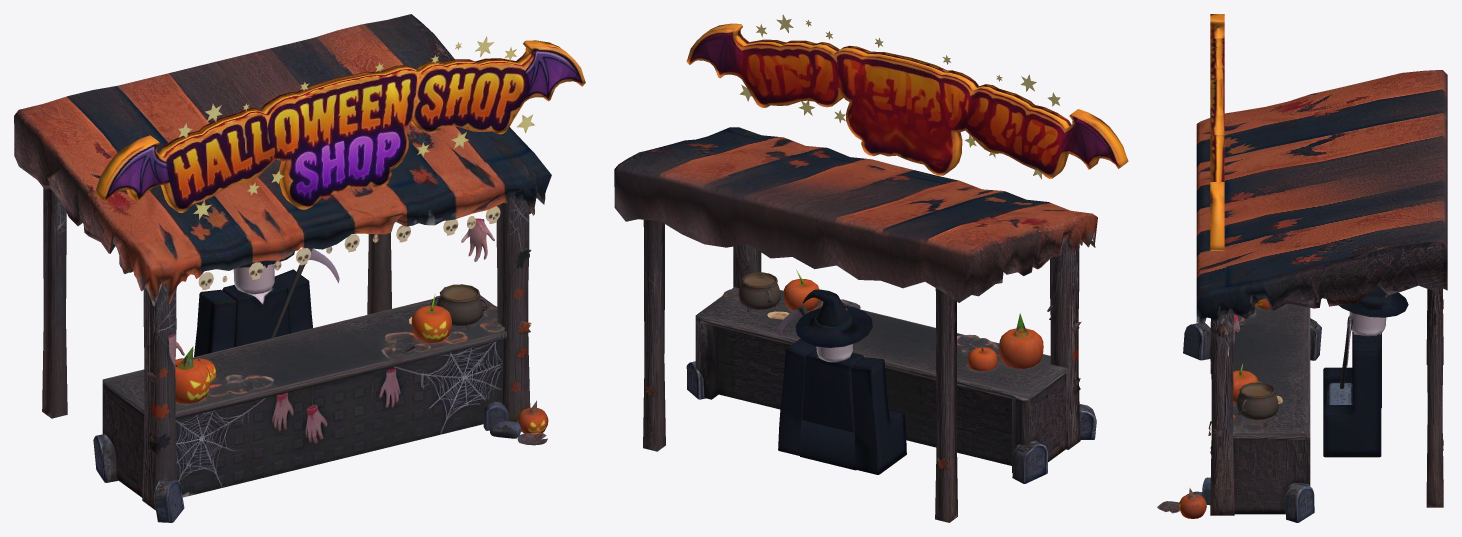
Rendered from halloween-shop.glb.
3 renders of one model, left to right at view 1: azimuth 30°, elevation 25°; view 2: azimuth 150°, elevation 25°; view 3: azimuth 270°, elevation 25°, orthographic. The views are drawn at different scales.
Visible parts, largest first — view 1: HalloweenShop; view 2: HalloweenShop; view 3: HalloweenShop.
Part boxes in pixels (x1,y1,x2,y2): HalloweenShop: (14,14,585,522); HalloweenShop: (614,14,1128,522); HalloweenShop: (1157,14,1447,522).
Size of the model in its own units: 4.57 by 3.6 by 2.64.
Materials: 1 (1 with a texture image).
